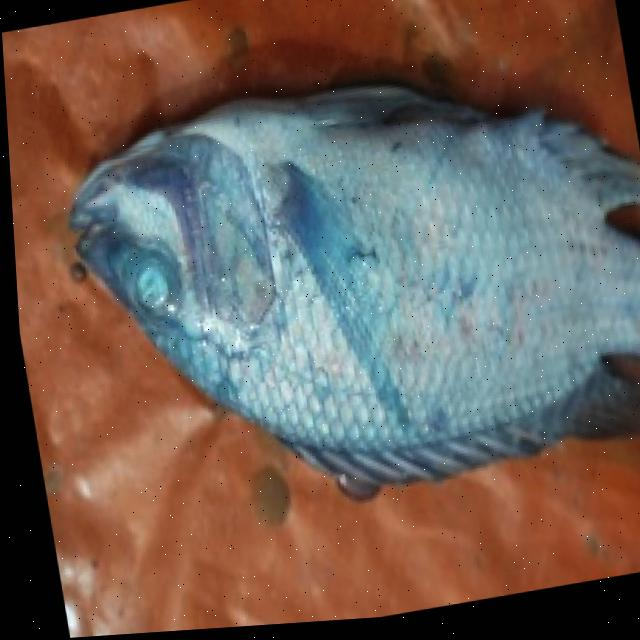Non-Fresh: (174, 79, 563, 474), (102, 242, 196, 335)
